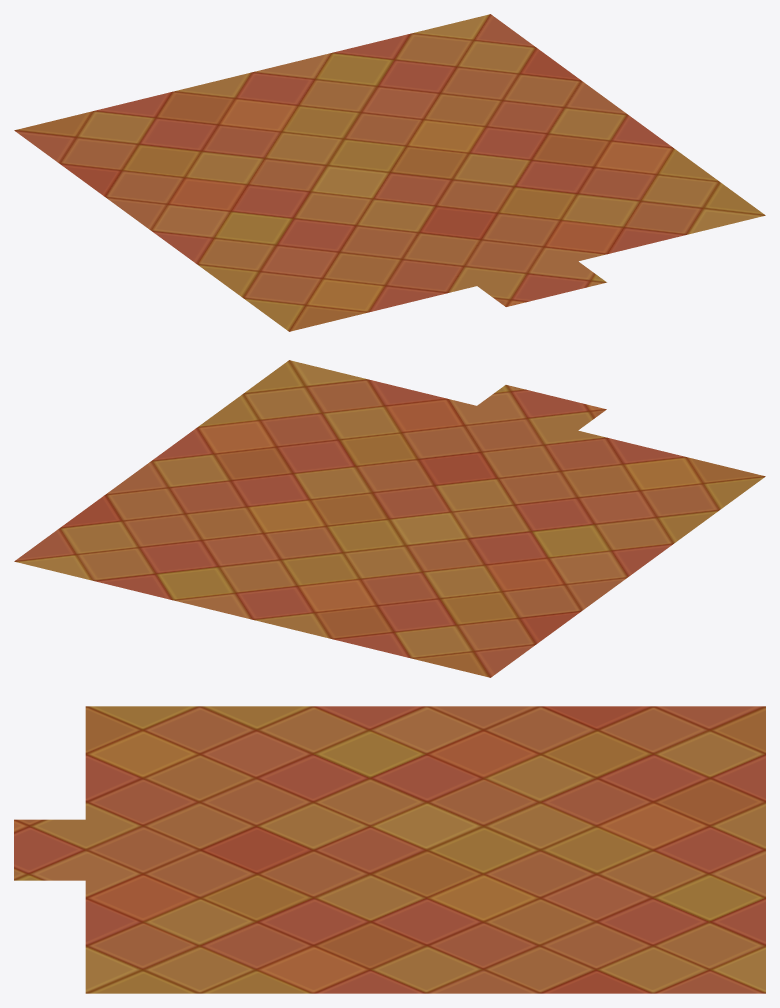
Rendered from Floor04_b02.FBX.
The picture shows the model from 3 angles, top to bottom: view 1: azimuth 30°, elevation 25°; view 2: azimuth 150°, elevation 25°; view 3: azimuth 270°, elevation 25°; orthographic projection. The views are drawn at different scales.
Visible parts, largest first — view 1: Floor04_b02; view 2: Floor04_b02; view 3: Floor04_b02.
Part boxes in pixels (x1,y1,x2,y2): Floor04_b02: [14, 14, 765, 331]; Floor04_b02: [14, 360, 765, 677]; Floor04_b02: [14, 706, 765, 993].
Size of the model in its own units: 900 by 0.000446 by 995.
1 material, 1 textured.
